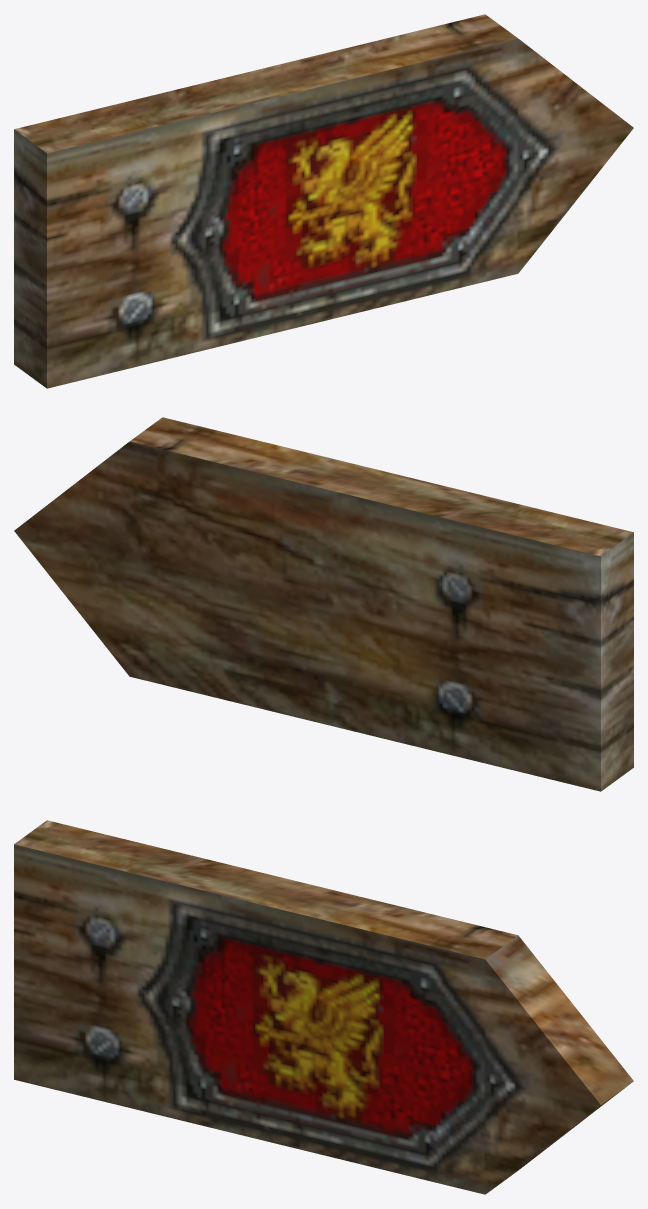
File: MS_SIGN5.glb
The picture shows the model from 3 angles, top to bottom: view 1: azimuth 30°, elevation 25°; view 2: azimuth 150°, elevation 25°; view 3: azimuth 330°, elevation 25°; orthographic projection.
Parts seen in each view (by area): view 1: MS_SIGN5; view 2: MS_SIGN5; view 3: MS_SIGN5.
Boxes of the visible parts, left/top/right/bottom form: MS_SIGN5: left=14, top=14, right=633, bottom=388; MS_SIGN5: left=14, top=417, right=633, bottom=791; MS_SIGN5: left=14, top=820, right=633, bottom=1194.
Bounding box in the file's own units: 0.8085 × 0.3097 × 0.0789.
Materials: 2 (2 with a texture image).
